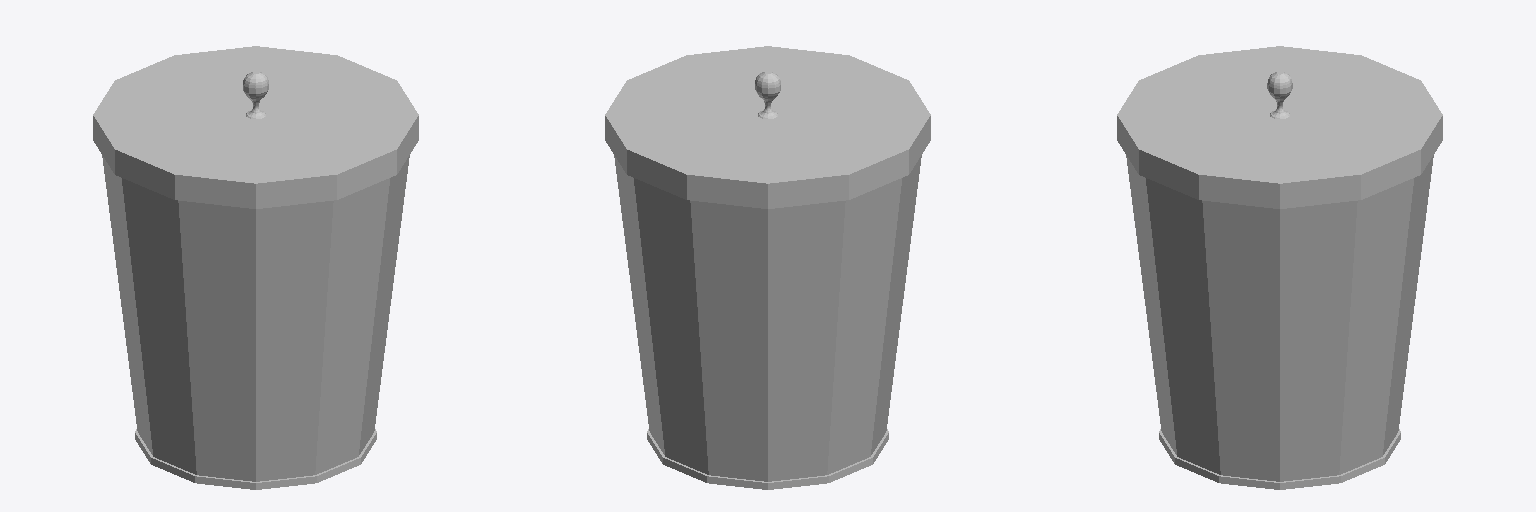
Rendered from Cestinho_de_lixo.obj.
3 views of the same model, side by side, from view 1: azimuth 30°, elevation 25°; view 2: azimuth 150°, elevation 25°; view 3: azimuth 270°, elevation 25° (orthographic).
Parts seen in each view (by area): view 1: Cestinho:cestinho; view 2: Cestinho:cestinho; view 3: Cestinho:cestinho.
Boxes of the visible parts, x1,y1,x2,y2 form: Cestinho:cestinho: [93, 46, 418, 489]; Cestinho:cestinho: [605, 46, 930, 489]; Cestinho:cestinho: [1117, 46, 1442, 489].
Bounding box in the file's own units: 0.7454 × 0.9237 × 0.7454.